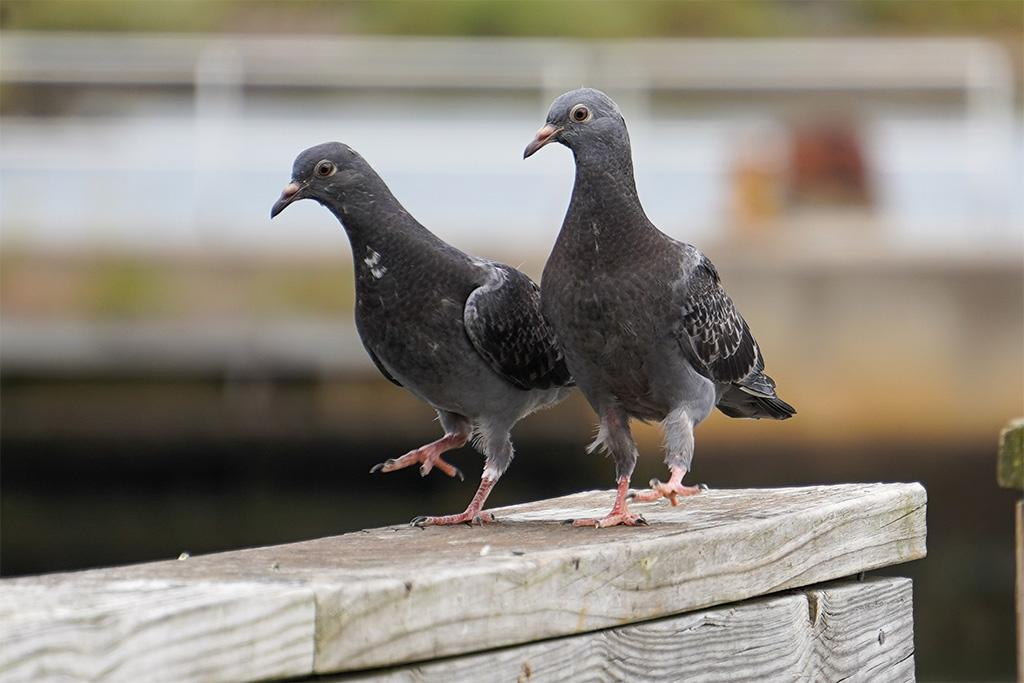Flying Rat: (268, 130, 574, 525), (516, 99, 779, 516)
